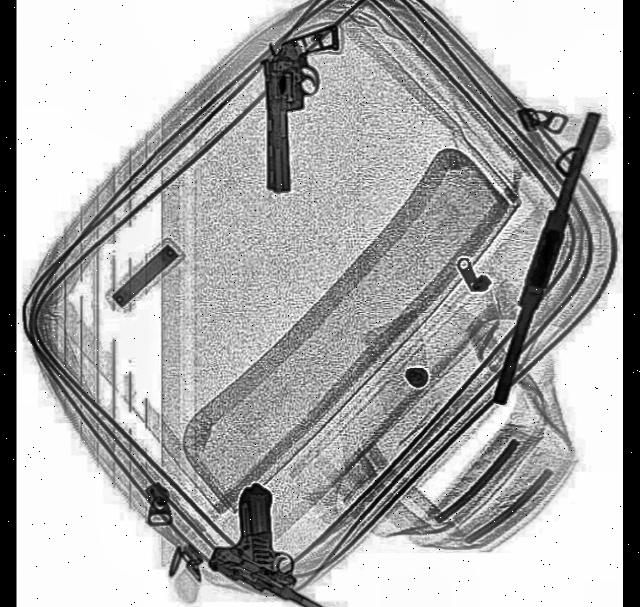Gun: (205, 471, 372, 607), (262, 22, 343, 192)
